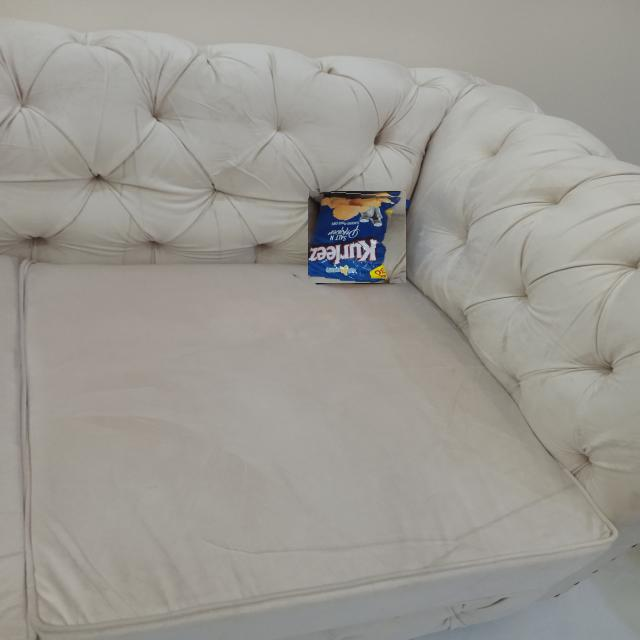Plastic: (308, 190, 406, 283)
